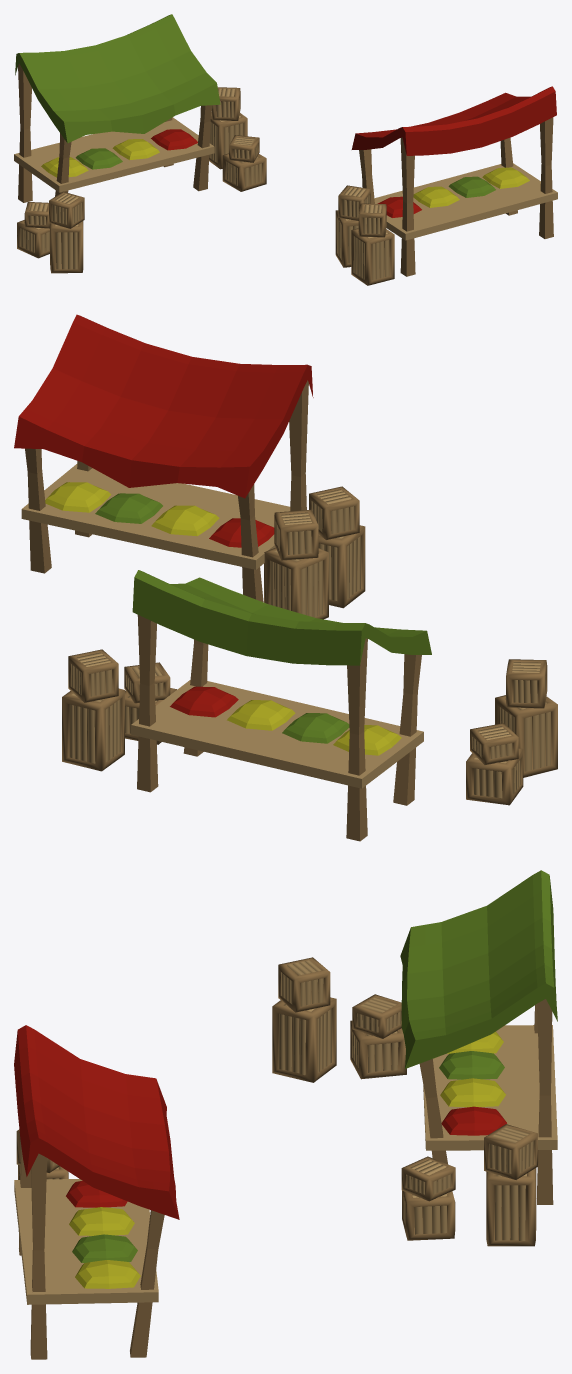
The model's file is market-stall.glb.
3 views of the same model, one above another, from view 1: azimuth 30°, elevation 25°; view 2: azimuth 150°, elevation 25°; view 3: azimuth 270°, elevation 25° (orthographic). The views are drawn at different scales.
Visible parts, largest first — view 1: Market_FirstAge_Level1; view 2: Market_FirstAge_Level1; view 3: Market_FirstAge_Level1.
Boxes of the visible parts, x1,y1,x2,y2 form: Market_FirstAge_Level1: (14, 14, 557, 285); Market_FirstAge_Level1: (14, 314, 557, 841); Market_FirstAge_Level1: (14, 870, 557, 1359).
Bounding box in the file's own units: 1.62 × 0.5514 × 1.22.
